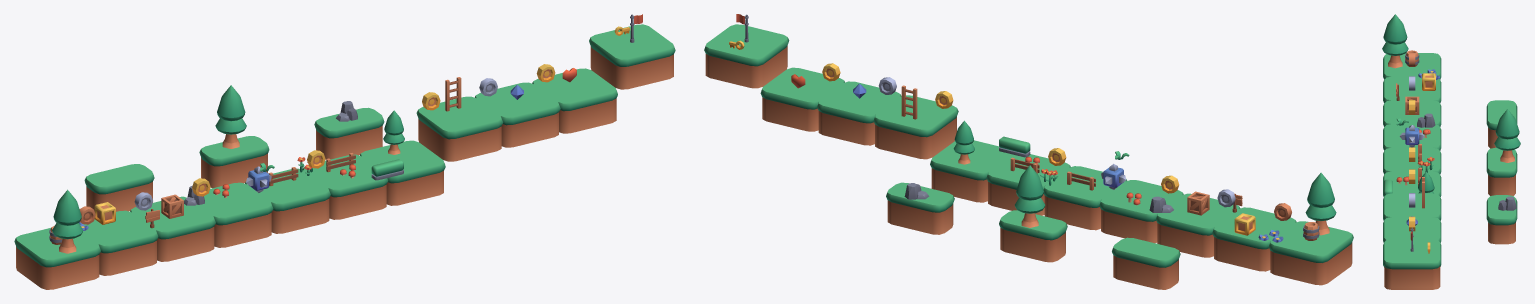
The model's file is platformer-diorama.glb.
3 renders of one model, left to right at view 1: azimuth 30°, elevation 25°; view 2: azimuth 150°, elevation 25°; view 3: azimuth 270°, elevation 25°, orthographic. The views are drawn at different scales.
Parts seen in each view (by area): view 1: block-grass-large.010, block-grass-large.007, block-grass-large, block-grass-large.008, block-grass-large.009, block-grass-large.003, block-grass-large.001, block-grass-large.006, block-grass-large.004, block-grass-large.005, block-grass-large.002, block-grass-long.002 (+9 smaller); view 2: block-grass-large.010, block-grass-large.007, block-grass-large, block-grass-large.008, block-grass-large.009, block-grass-large.003, block-grass-large.006, block-grass-large.001, block-grass-large.004, block-grass-large.002, block-grass-long, block-grass-long.001 (+8 smaller); view 3: block-grass-large.010, block-grass-large.007, block-grass-long.002, block-grass-long.001, block-grass-large.004, block-grass-large.008, block-grass-large.002, block-grass-large.001, block-grass-large.003, block-grass-large, tree-pine.001, tree-pine (+19 smaller).
Boxes of the visible parts, bbox=[...] form: block-grass-large.010: bbox=[589, 24, 675, 89]; block-grass-large.007: bbox=[416, 96, 503, 161]; block-grass-large: bbox=[14, 228, 100, 289]; block-grass-large.008: bbox=[475, 82, 560, 147]; block-grass-large.009: bbox=[532, 68, 617, 133]; block-grass-large.003: bbox=[198, 182, 273, 247]; block-grass-large.001: bbox=[80, 210, 158, 275]; block-grass-large.006: bbox=[360, 140, 445, 205]; block-grass-large.004: bbox=[245, 168, 330, 233]; block-grass-large.005: bbox=[302, 154, 388, 219]; block-grass-large.002: bbox=[130, 196, 215, 261]; block-grass-long.002: bbox=[314, 107, 384, 159]; block-grass-large.010: bbox=[704, 24, 789, 88]; block-grass-large.007: bbox=[873, 95, 958, 159]; block-grass-large: bbox=[1269, 221, 1353, 285]; block-grass-large.008: bbox=[817, 81, 901, 145]; block-grass-large.009: bbox=[760, 67, 844, 131]; block-grass-large.003: bbox=[1099, 180, 1183, 243]; block-grass-large.006: bbox=[930, 140, 1011, 202]; block-grass-large.001: bbox=[1212, 207, 1296, 271]; block-grass-large.004: bbox=[1043, 166, 1127, 230]; block-grass-large.002: bbox=[1156, 193, 1240, 257]; block-grass-long: bbox=[1112, 237, 1180, 289]; block-grass-long.001: bbox=[999, 210, 1067, 262]; block-grass-large.010: bbox=[1383, 239, 1441, 288]; block-grass-large.007: bbox=[1383, 193, 1441, 219]; block-grass-long.002: bbox=[1486, 195, 1517, 244]; block-grass-long.001: bbox=[1486, 147, 1517, 195]; block-grass-large.004: bbox=[1383, 147, 1441, 174]; block-grass-large.008: bbox=[1383, 217, 1441, 242]; block-grass-large.002: bbox=[1383, 100, 1441, 126]; block-grass-large.001: bbox=[1383, 76, 1441, 103]; block-grass-large.003: bbox=[1383, 124, 1441, 150]; block-grass-large: bbox=[1383, 53, 1441, 79]; tree-pine.001: bbox=[1494, 109, 1520, 162]; tree-pine: bbox=[1382, 14, 1408, 68].
Size of the model in its own units: 22.08 by 3.9 by 4.95.
Materials: 44 (44 with a texture image).
